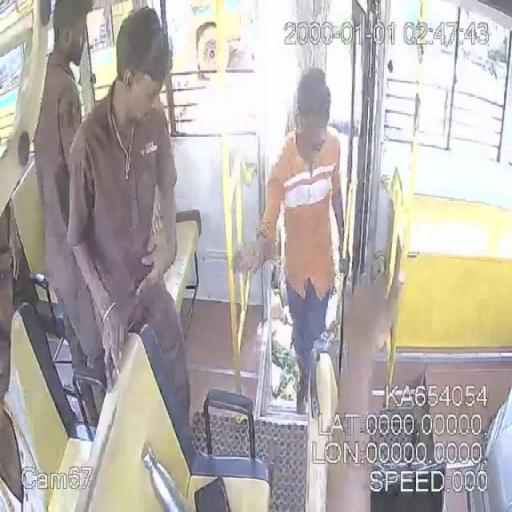persona: (66, 6, 192, 428), (252, 66, 348, 422), (32, 0, 108, 426)
